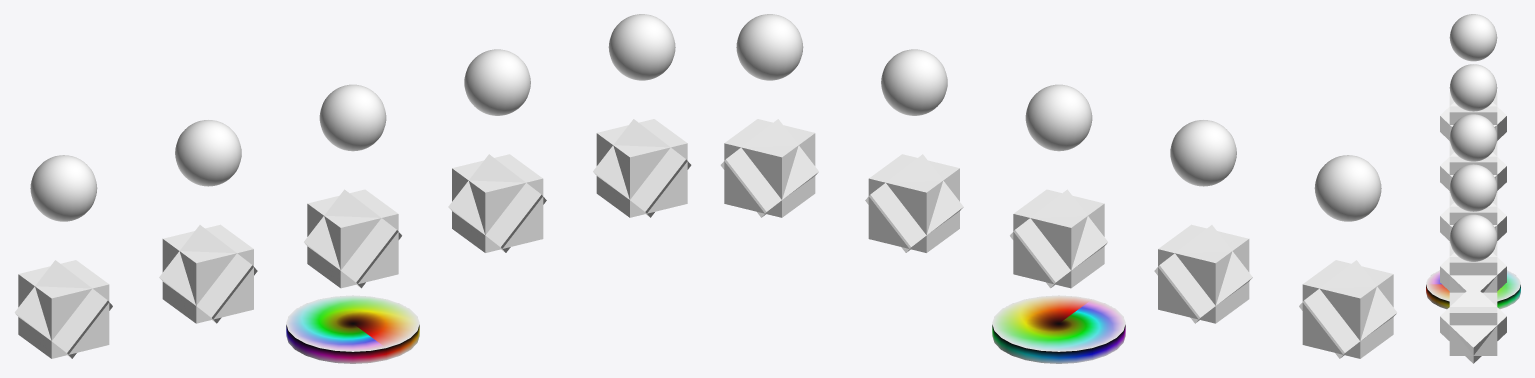
The model's file is normal.gltf.
The picture shows the model from 3 angles, left to right: view 1: azimuth 30°, elevation 25°; view 2: azimuth 150°, elevation 25°; view 3: azimuth 270°, elevation 25°; orthographic projection. The views are drawn at different scales.
Visible parts, largest first — view 1: cube (×5), sphere (×5), diamond (×5), base; view 2: cube (×5), sphere (×5), diamond (×5), base; view 3: sphere (×5), cube (×5), diamond (×5), base.
Part boxes in pixels (bbox=[...]): cube (×5): bbox=[18, 119, 687, 358]; sphere (×5): bbox=[30, 14, 675, 221]; diamond (×5): bbox=[14, 119, 691, 358]; base: bbox=[286, 295, 419, 363]; cube (×5): bbox=[724, 119, 1393, 358]; sphere (×5): bbox=[736, 14, 1381, 221]; diamond (×5): bbox=[720, 119, 1397, 358]; base: bbox=[992, 295, 1125, 363]; sphere (×5): bbox=[1449, 14, 1497, 261]; cube (×5): bbox=[1449, 92, 1497, 355]; diamond (×5): bbox=[1440, 102, 1506, 363]; base: bbox=[1426, 270, 1520, 309].
Size of the model in its own units: 5.85 by 2.05 by 1.
6 materials, 1 textured.
